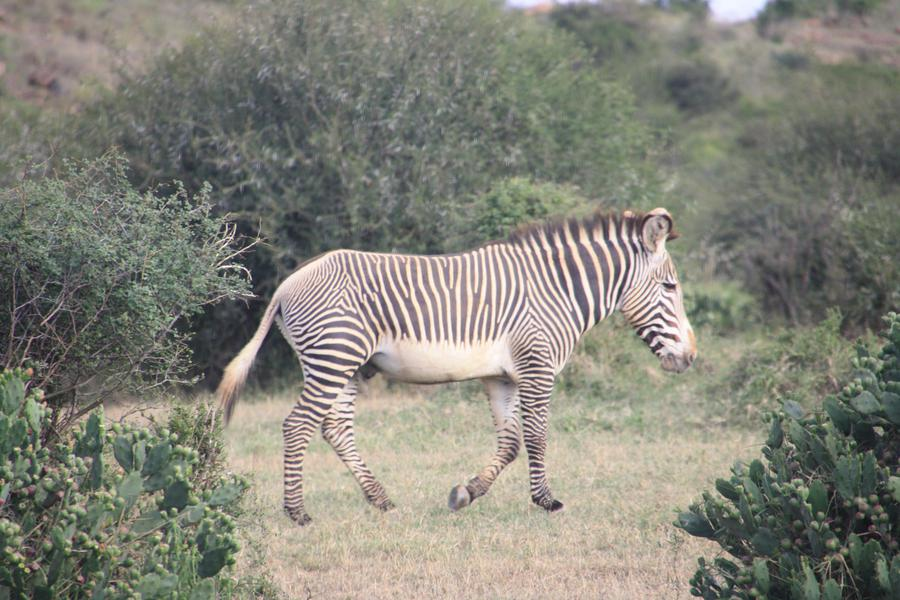zebra_grevys: (275, 246, 559, 367)
